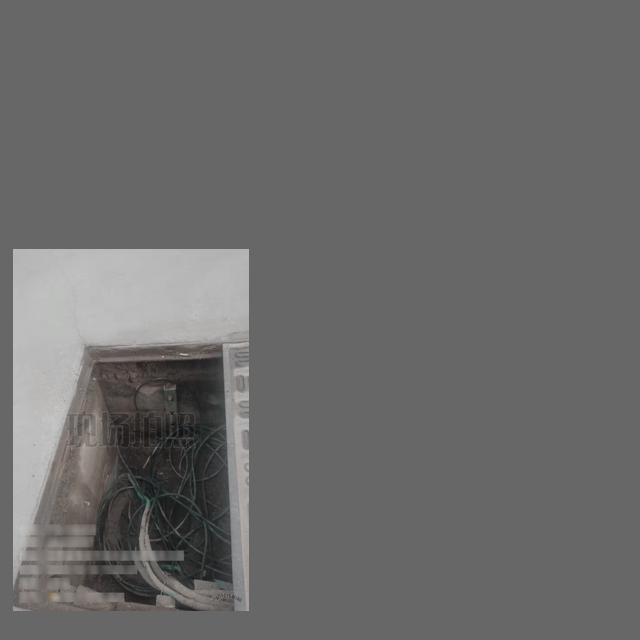lose: (15, 340, 249, 610)
